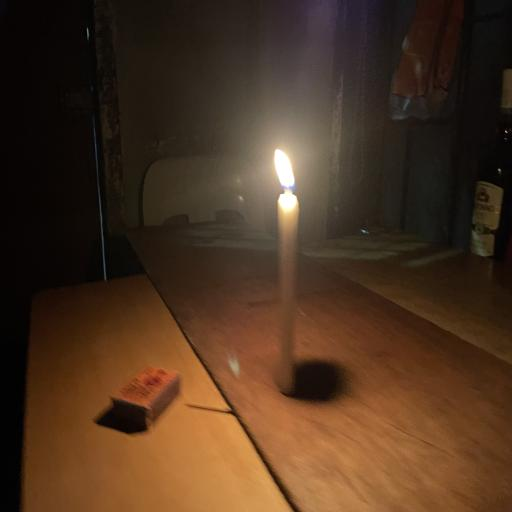fire: (251, 137, 311, 213)
